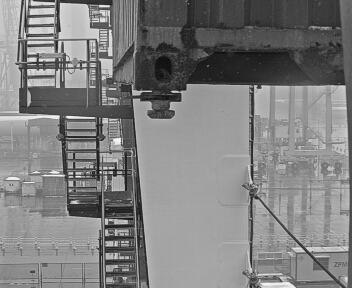twist_lock_1: (135, 84, 187, 127)
